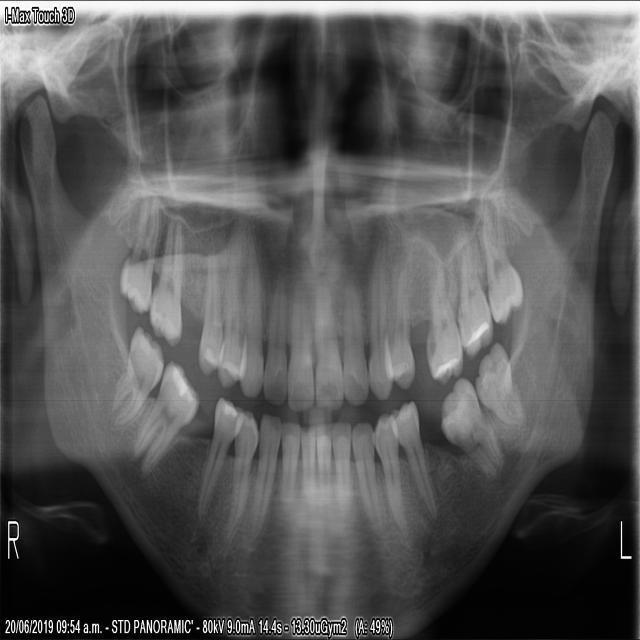LCD: (347, 412, 385, 542)
LCU: (366, 239, 393, 408)
LID: (328, 413, 355, 538), (313, 418, 330, 516)
LIU: (309, 259, 345, 415), (339, 257, 370, 410)
LMD: (435, 368, 507, 482), (472, 332, 523, 429)
LMU: (477, 203, 526, 332), (423, 242, 466, 388), (454, 225, 496, 366)
LPMD: (388, 393, 438, 525), (367, 406, 413, 542)
LPMU: (381, 236, 414, 390)
RCD: (242, 406, 281, 556)
RCU: (237, 233, 264, 400)
RID: (276, 416, 299, 527), (298, 416, 317, 524)
RIU: (285, 254, 314, 415), (260, 257, 289, 410)
RMD: (128, 349, 199, 486), (102, 318, 165, 441)
RMU: (113, 179, 166, 322), (146, 199, 189, 352)
RPMD: (193, 390, 245, 535), (216, 405, 259, 558)
RPMU: (216, 219, 248, 392), (194, 234, 226, 383)
